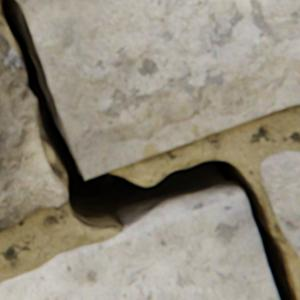brick: (17, 0, 299, 178), (0, 191, 277, 299), (0, 30, 67, 230), (258, 150, 299, 258)
crack: (0, 0, 299, 299)
